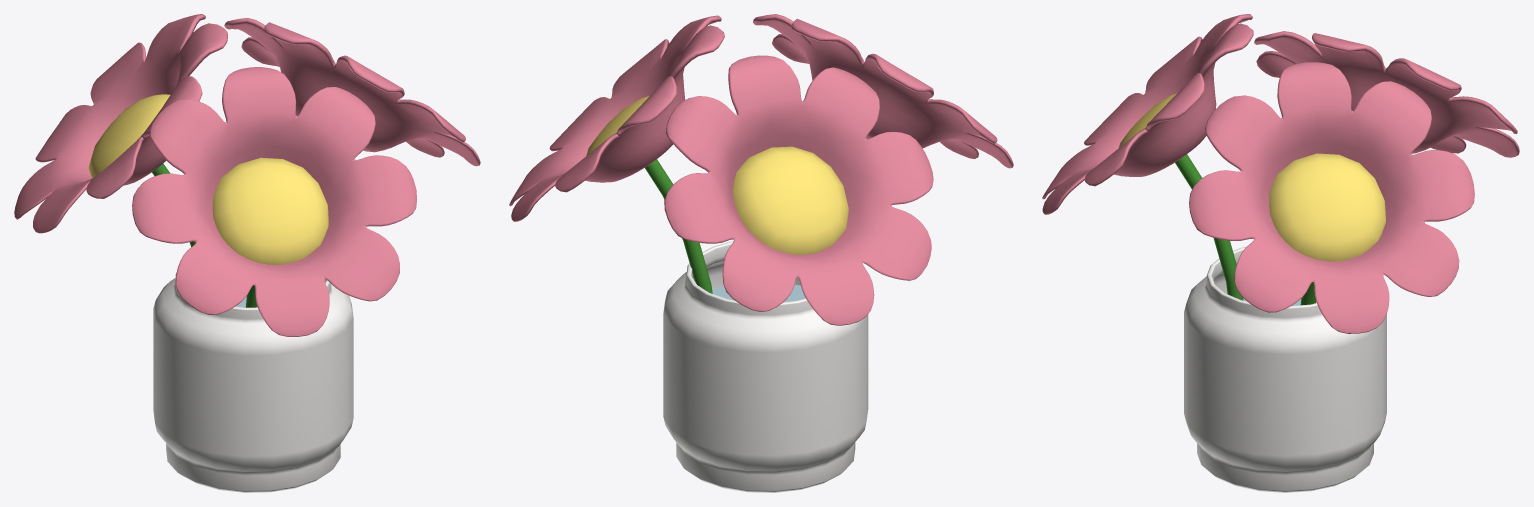
Rendered from Flower_13.glb.
3 renders of one model, left to right at view 1: azimuth 30°, elevation 25°; view 2: azimuth 150°, elevation 25°; view 3: azimuth 270°, elevation 25°, orthographic. The views are drawn at different scales.
Parts seen in each view (by area): view 1: Vase_with_Flowers_6; view 2: Vase_with_Flowers_6; view 3: Vase_with_Flowers_6.
Boxes of the visible parts, x1,y1,x2,y2 form: Vase_with_Flowers_6: [14, 14, 480, 492]; Vase_with_Flowers_6: [509, 14, 1013, 492]; Vase_with_Flowers_6: [1042, 14, 1519, 492].
Size of the model in its own units: 0.5432 by 0.5333 by 0.5596.
2 materials, 2 textured.
